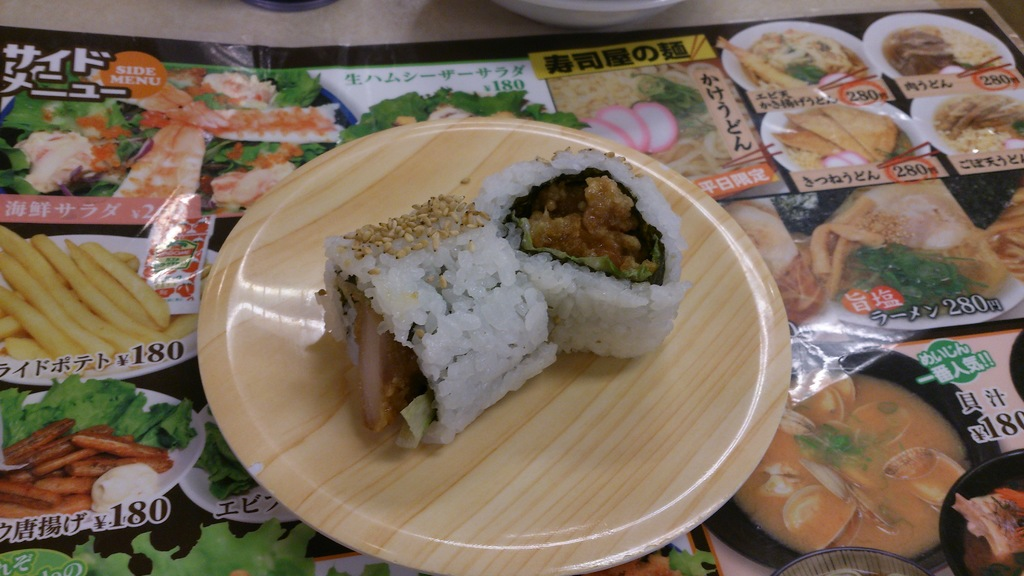French fries: (0, 216, 194, 353)
